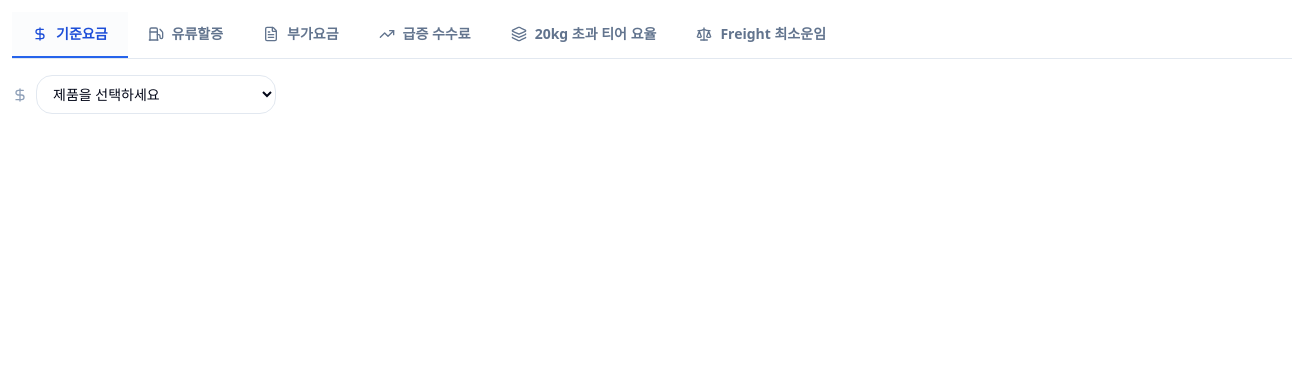
it: TC-ISS590-01: ShipperUpsRatesClient 급증 수수료 탭 렌더링 › 급증 수수료 탭이 표시되고 클릭 시 SurgeFeeTable이 렌더링됨
Click the button "급증 수수료" at (425,35), box [359, 12, 491, 58]
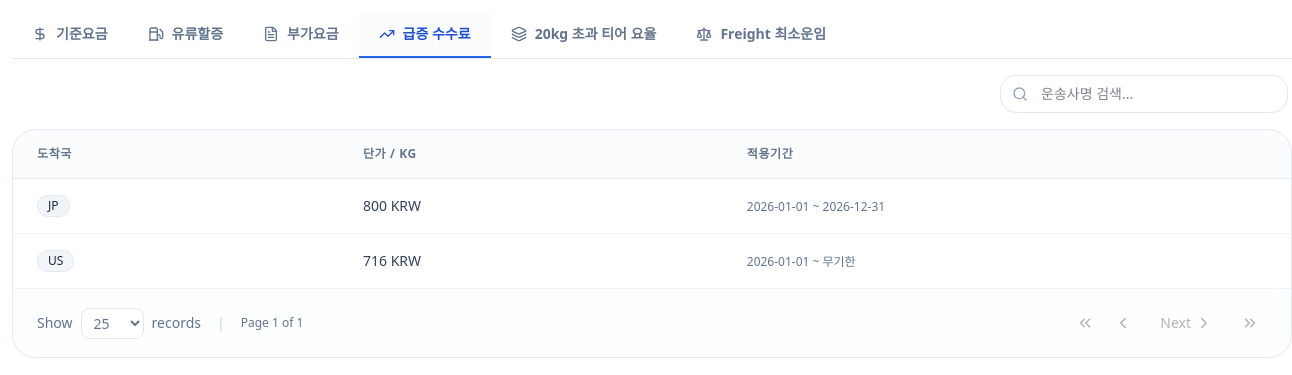
expect the text "JP" is shown: met, box [37, 195, 70, 217]
expect the text "800 KRW" is shown: met, box [363, 196, 421, 215]
expect the text "2026-01-01 ~ 2026-12-31" is shown: met, box [747, 198, 885, 215]
